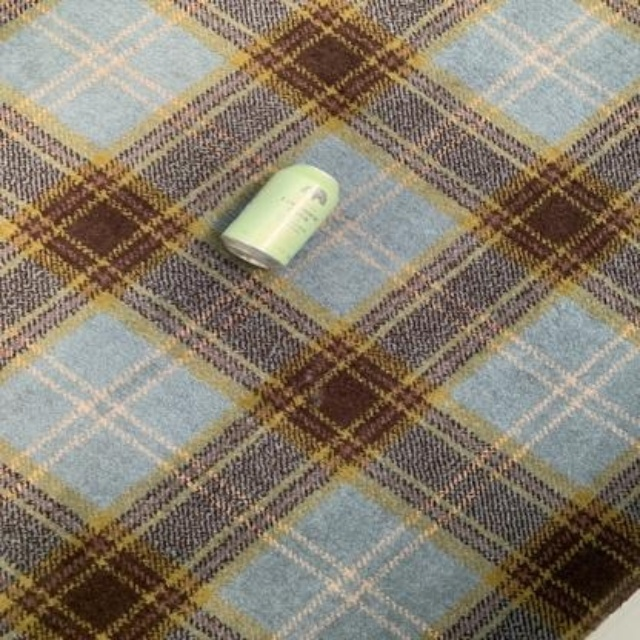trash: (222, 165, 337, 268)
